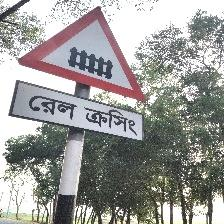Rail-crossing: (9, 5, 147, 142)
